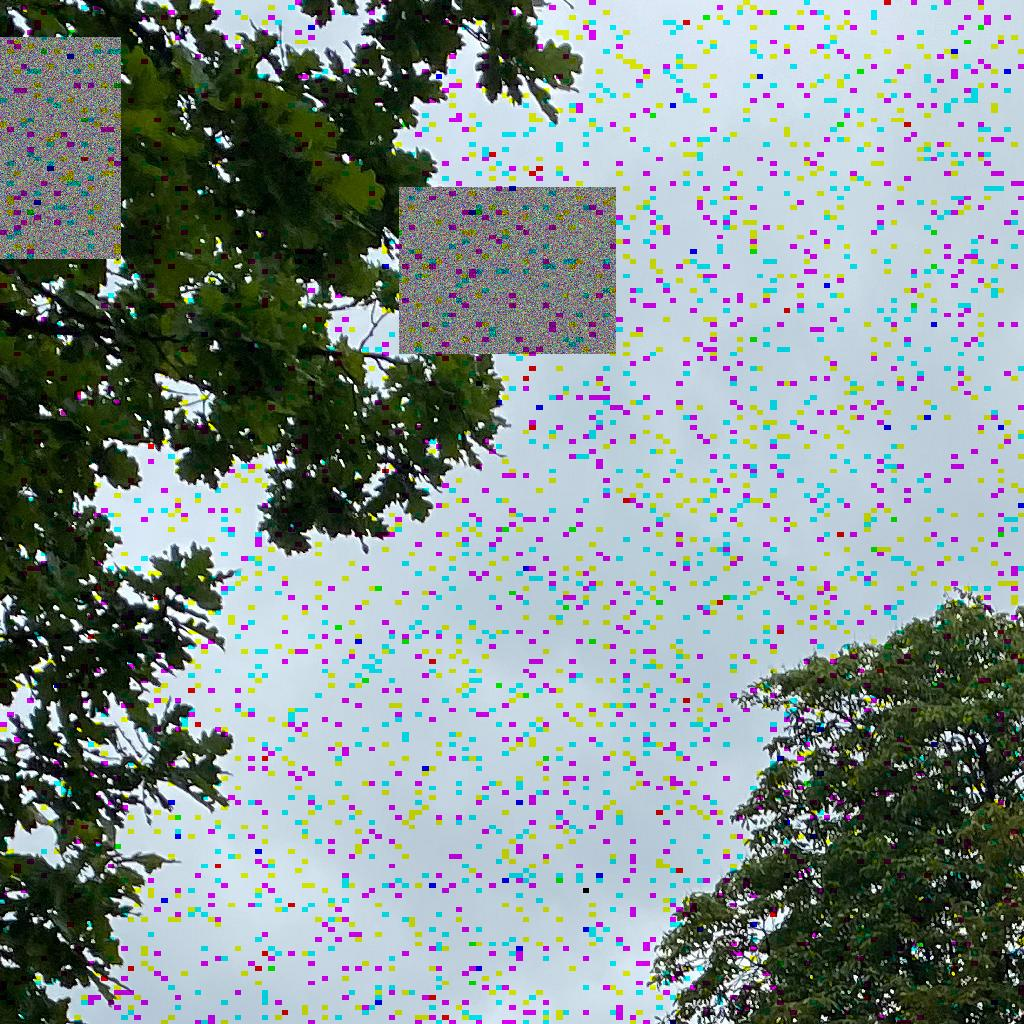tree: (1, 1, 583, 1024), (648, 592, 1023, 1024)
